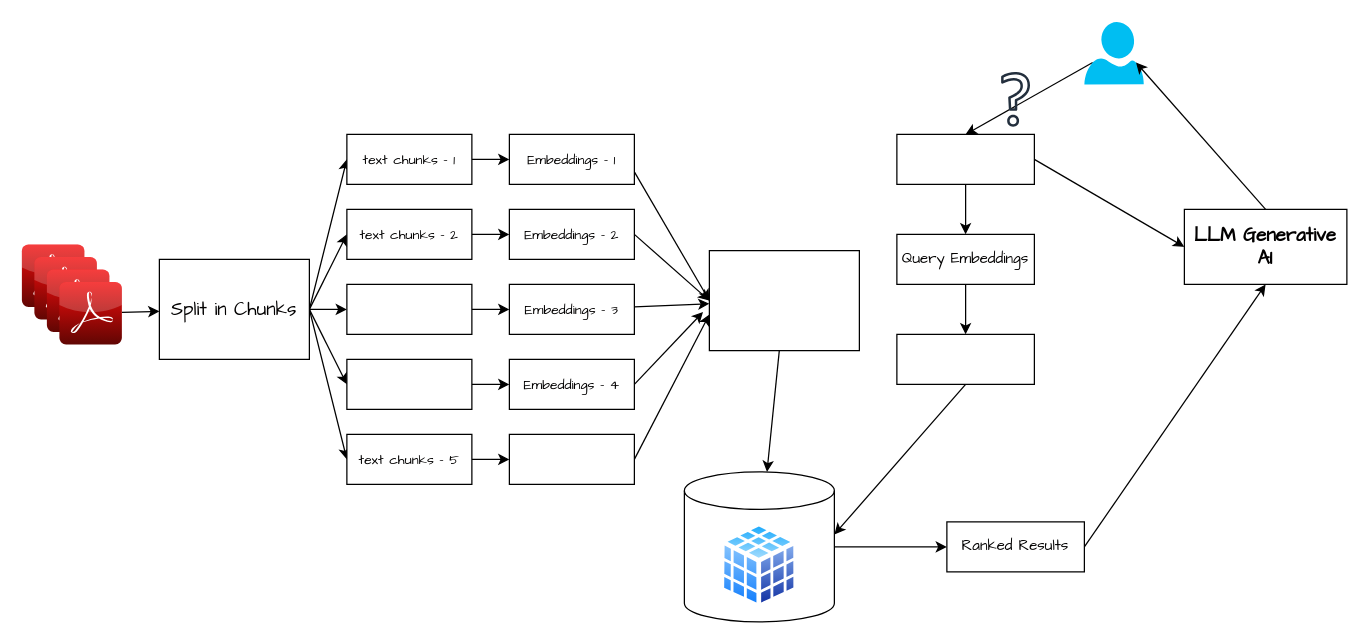
Image size: 1369x644. Some labels were removed from this diagram. Each missing label, with the centre of its shape:
"Build Semantic Index" goes at (x=783, y=300).
"Embeddings - 5" goes at (x=571, y=458).
"Question" goes at (x=965, y=158).
"Semantic Search" goes at (x=965, y=358).
"text chunks - 3" goes at (x=409, y=308).
"text chunks - 4" goes at (x=409, y=383).
